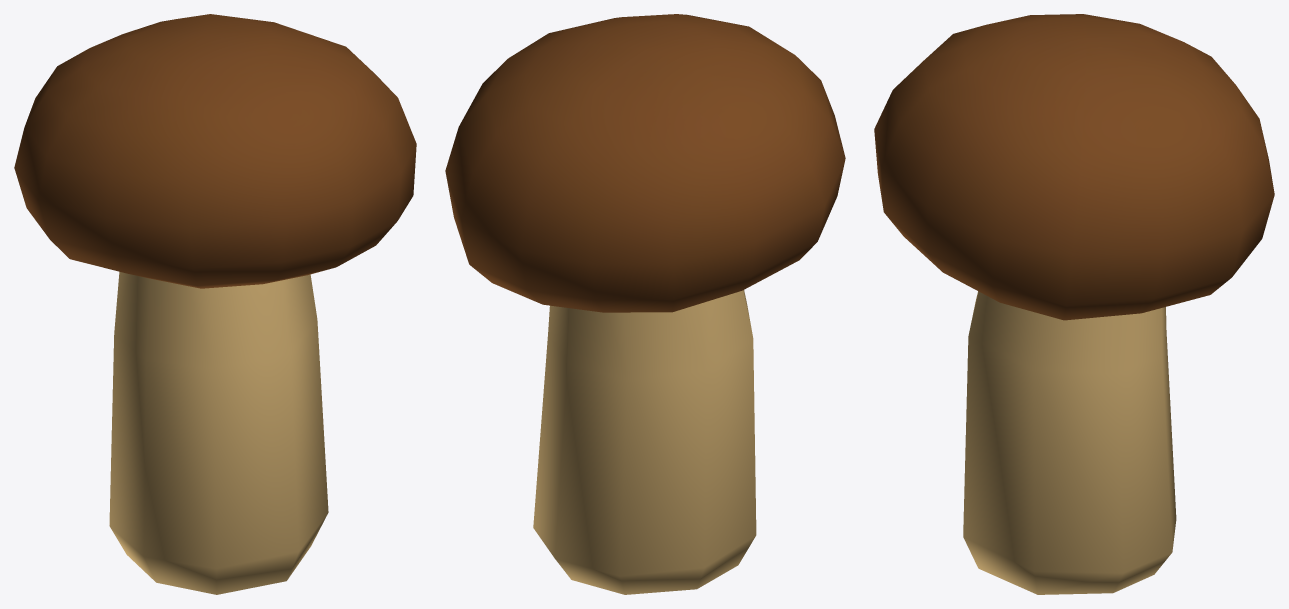
Rendered from mushroom.02.glb.
The picture shows the model from 3 angles, left to right: view 1: azimuth 30°, elevation 25°; view 2: azimuth 150°, elevation 25°; view 3: azimuth 270°, elevation 25°; orthographic projection.
Parts seen in each view (by area): view 1: Sphere.009; view 2: Sphere.009; view 3: Sphere.009.
Boxes of the visible parts, x1,y1,x2,y2 form: Sphere.009: [14, 14, 416, 594]; Sphere.009: [445, 14, 845, 594]; Sphere.009: [874, 14, 1274, 594].
Size of the model in its own units: 0.0834 by 0.1156 by 0.0817.
1 material, 1 textured.
